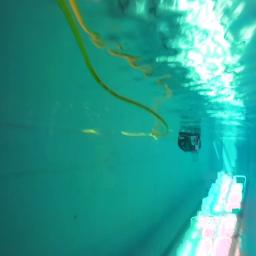Side: (178, 133, 201, 151)
back: (178, 136, 202, 152)
